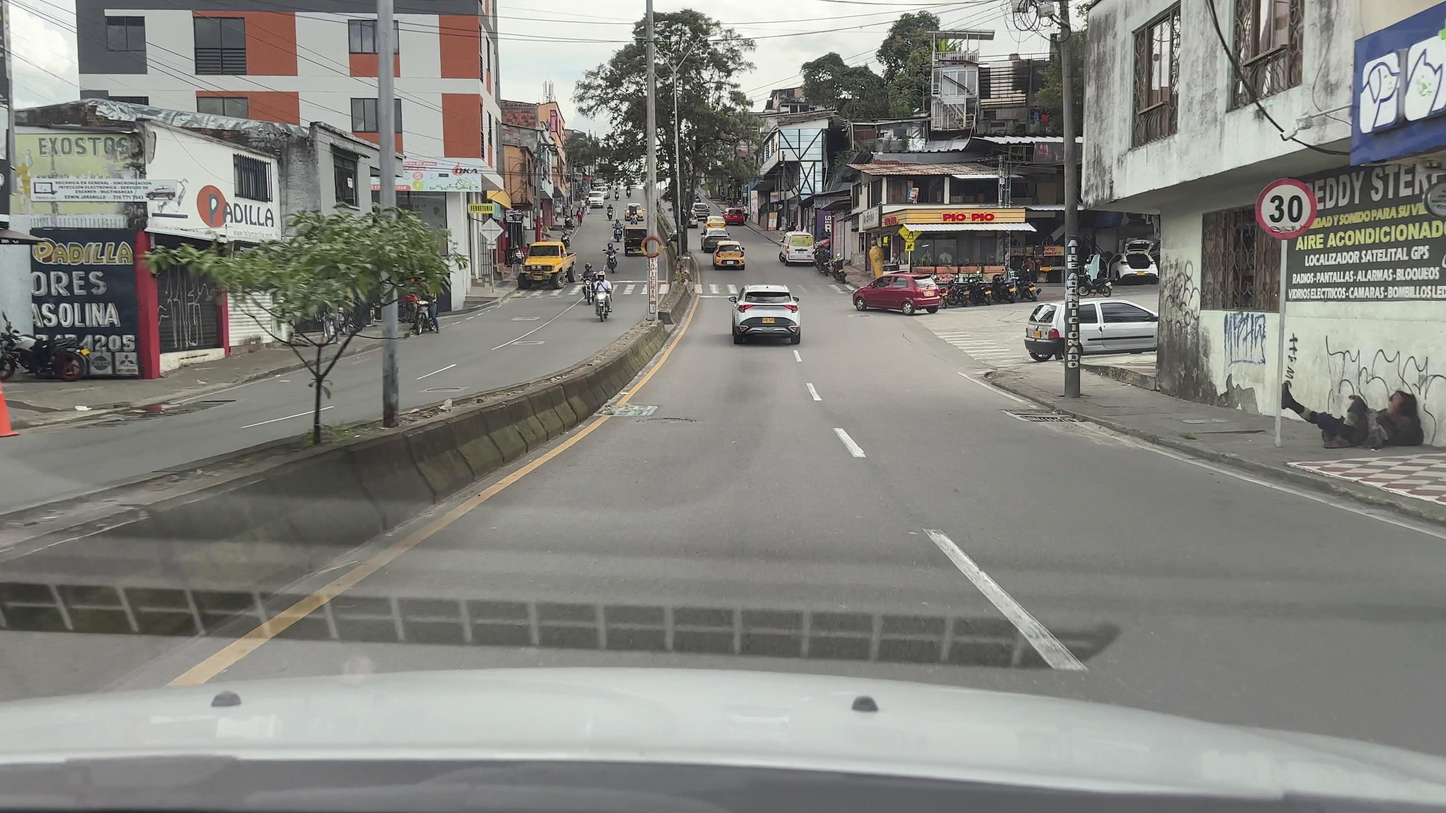registro: (638, 418, 697, 423)
rejilla: (1006, 410, 1079, 422), (599, 404, 653, 415)
